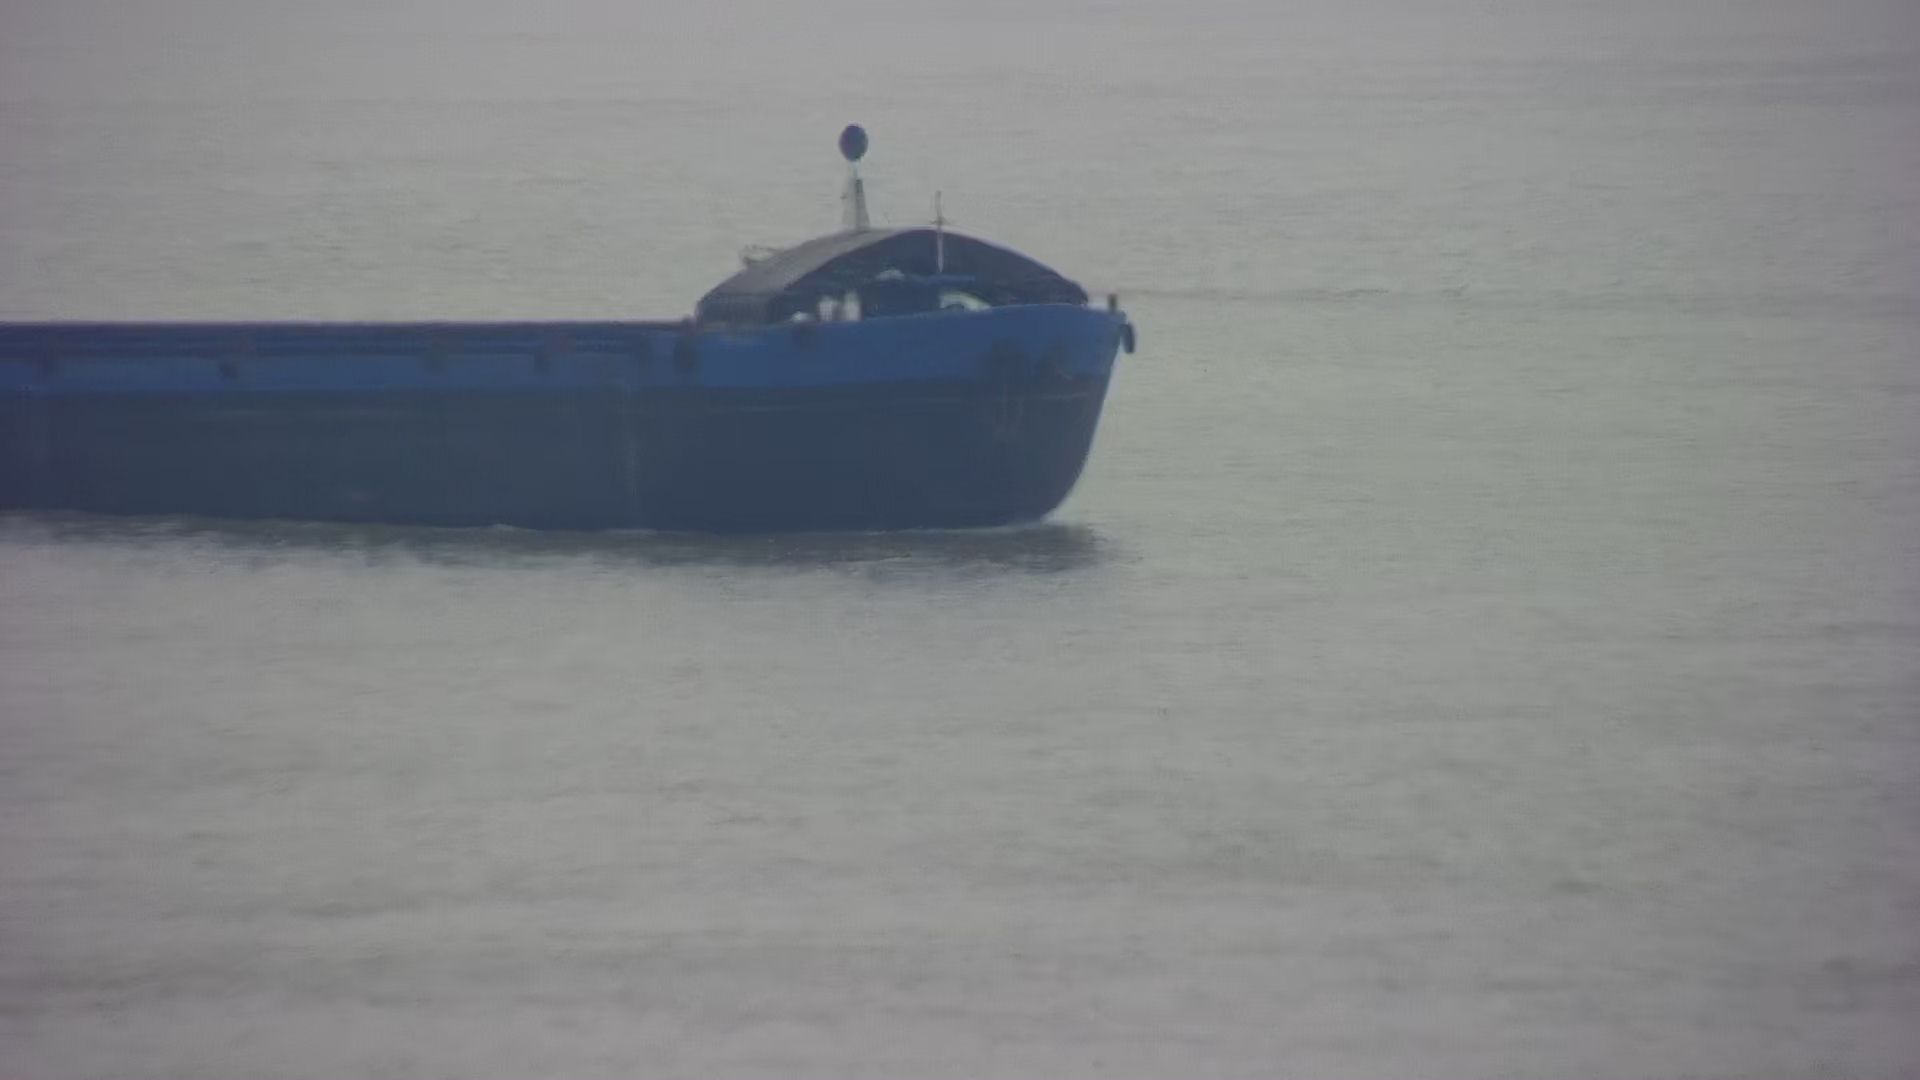boat: (742, 120, 1009, 272)
ship: (1, 220, 1135, 526)
